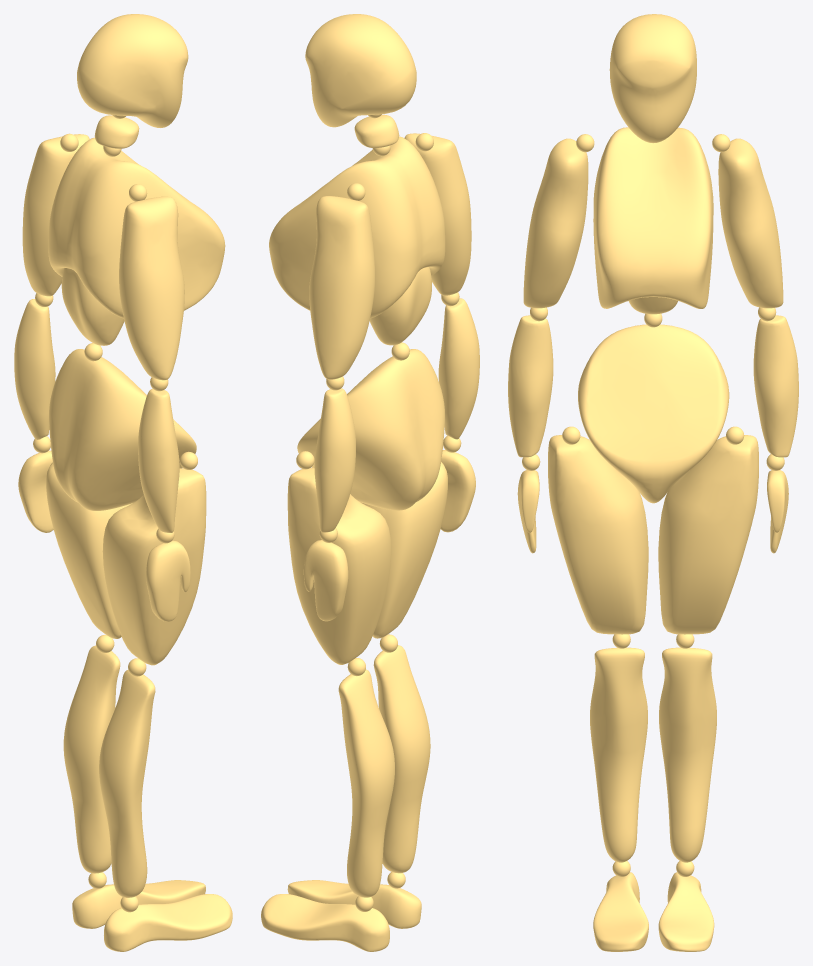
Rendered from scel-big.fbx.
The picture shows the model from 3 angles, left to right: view 1: azimuth 30°, elevation 25°; view 2: azimuth 150°, elevation 25°; view 3: azimuth 270°, elevation 25°; orthographic projection.
Parts seen in each view (by area): view 1: center lim; view 2: center lim; view 3: center lim.
Boxes of the visible parts, <box> form: center lim: <box>14,14,232,951</box>; center lim: <box>261,14,479,951</box>; center lim: <box>508,14,798,951</box>.
Bounding box in the file's own units: 32.97 × 187 × 54.71.
